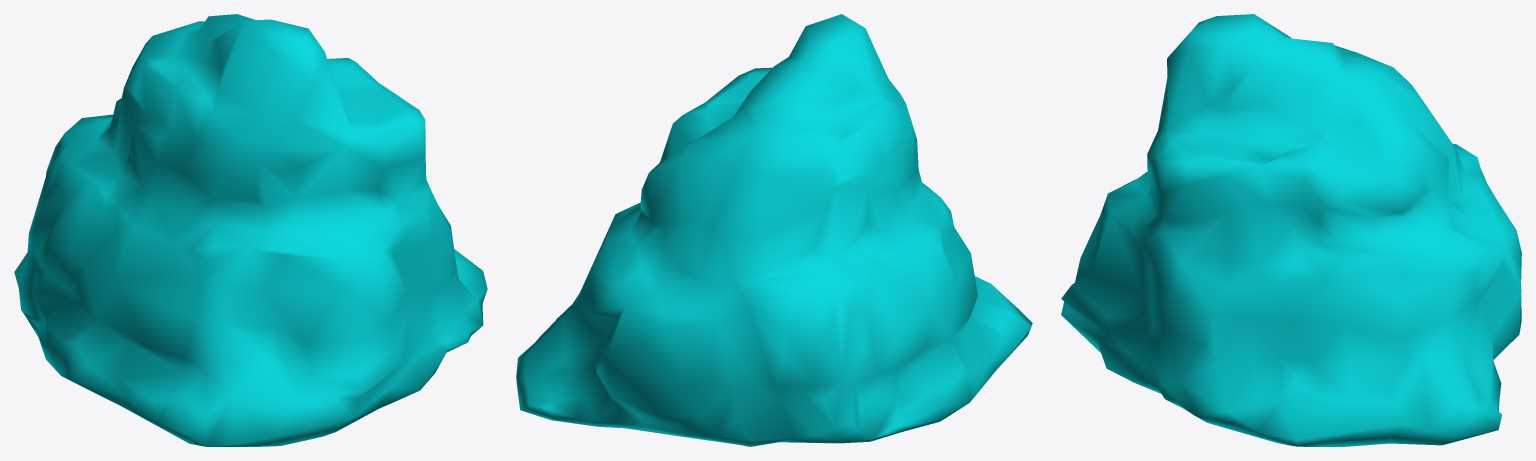
File: Rock_1.gltf
The picture shows the model from 3 angles, left to right: view 1: azimuth 30°, elevation 25°; view 2: azimuth 150°, elevation 25°; view 3: azimuth 270°, elevation 25°; orthographic projection. The views are drawn at different scales.
Visible parts, largest first — view 1: Cube; view 2: Cube; view 3: Cube.
Part boxes in pixels (left/top/right/bottom): Cube: left=14, top=14, right=487, bottom=446; Cube: left=516, top=14, right=1032, bottom=446; Cube: left=1061, top=14, right=1521, bottom=446.
Size of the model in its own units: 95.84 by 81.82 by 97.11.
